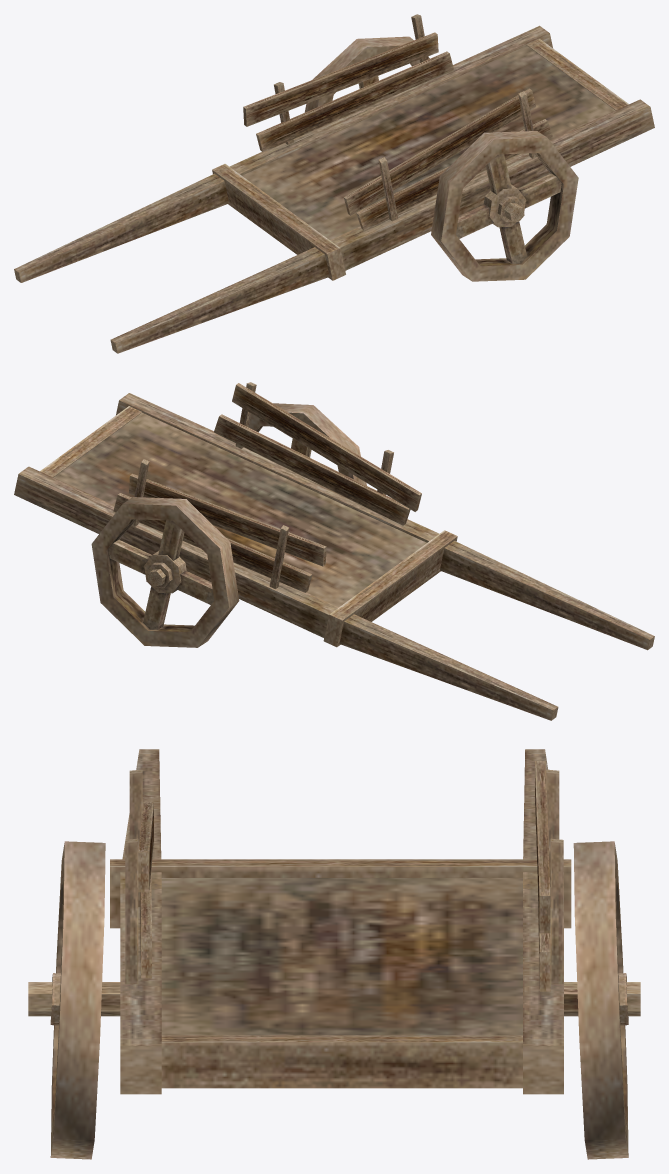
File: desert_cart02.glb
The picture shows the model from 3 angles, top to bottom: view 1: azimuth 30°, elevation 25°; view 2: azimuth 150°, elevation 25°; view 3: azimuth 270°, elevation 25°; orthographic projection. The views are drawn at different scales.
Visible parts, largest first — view 1: Bip01; view 2: Bip01; view 3: Bip01.
Part boxes in pixels (<box>): Bip01: <box>14,14,654,353</box>; Bip01: <box>14,382,654,720</box>; Bip01: <box>28,749,640,1159</box>.
Size of the model in its own units: 4.77 by 1.44 by 2.36.
Materials: 1 (1 with a texture image).
